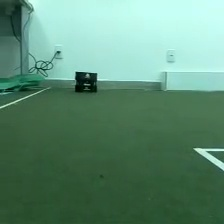goal: (160, 69, 224, 92)
robot: (73, 70, 98, 93)
